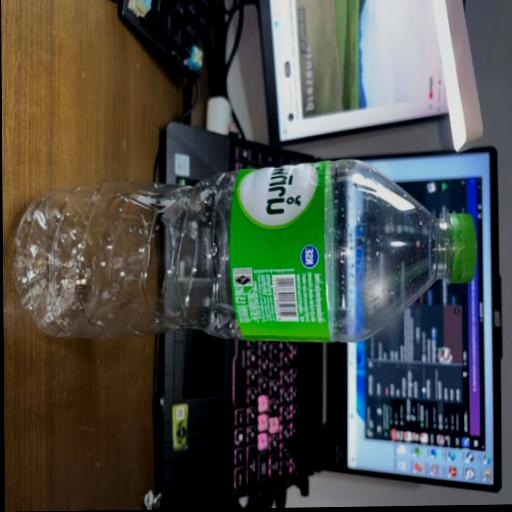bottle: (2, 148, 485, 360)
